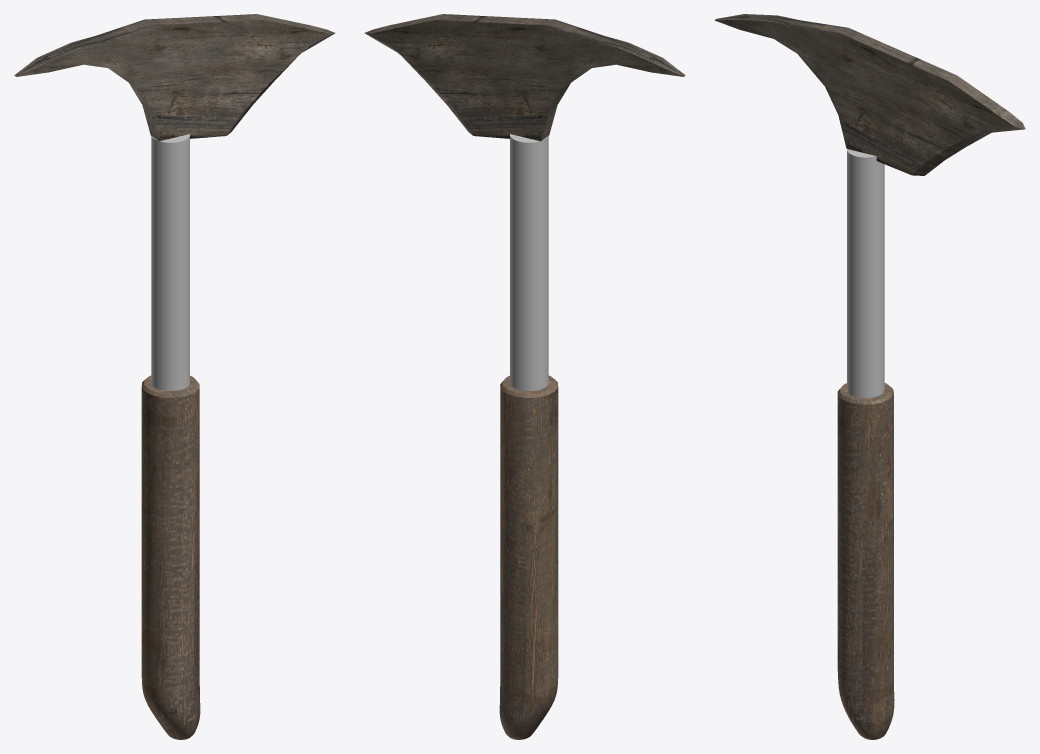
Rendered from SMOL AXE.fbx.
3 views of the same model, side by side, from view 1: azimuth 30°, elevation 25°; view 2: azimuth 150°, elevation 25°; view 3: azimuth 330°, elevation 25° (orthographic). The views are drawn at different scales.
Parts seen in each view (by area): view 1: Plane, Cube.012, Cylinder.007; view 2: Plane, Cube.012, Cylinder.007; view 3: Plane, Cube.012, Cylinder.007.
Boxes of the visible parts, x1=… form: Plane: x1=14, y1=14, x2=335, y2=141; Cube.012: x1=141, y1=375, x2=200, y2=739; Cylinder.007: x1=151, y1=134, x2=189, y2=390; Plane: x1=364, y1=14, x2=685, y2=141; Cube.012: x1=499, y1=375, x2=558, y2=739; Cylinder.007: x1=510, y1=134, x2=548, y2=390; Plane: x1=714, y1=14, x2=1025, y2=175; Cube.012: x1=837, y1=383, x2=894, y2=739; Cylinder.007: x1=847, y1=149, x2=884, y2=397.
Size of the model in its own units: 23.62 by 50.62 by 3.68.
